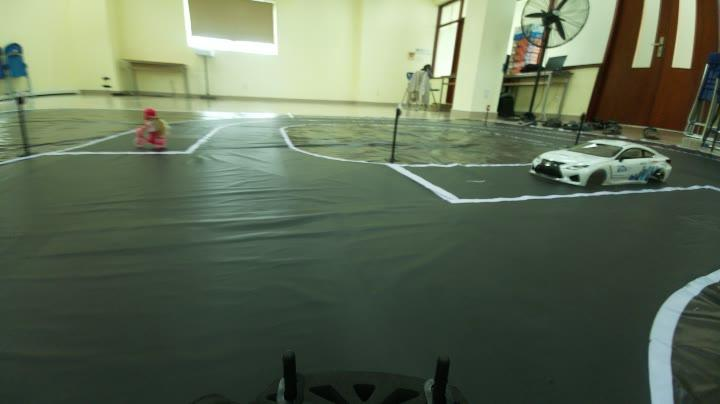car: (519, 132, 668, 186)
